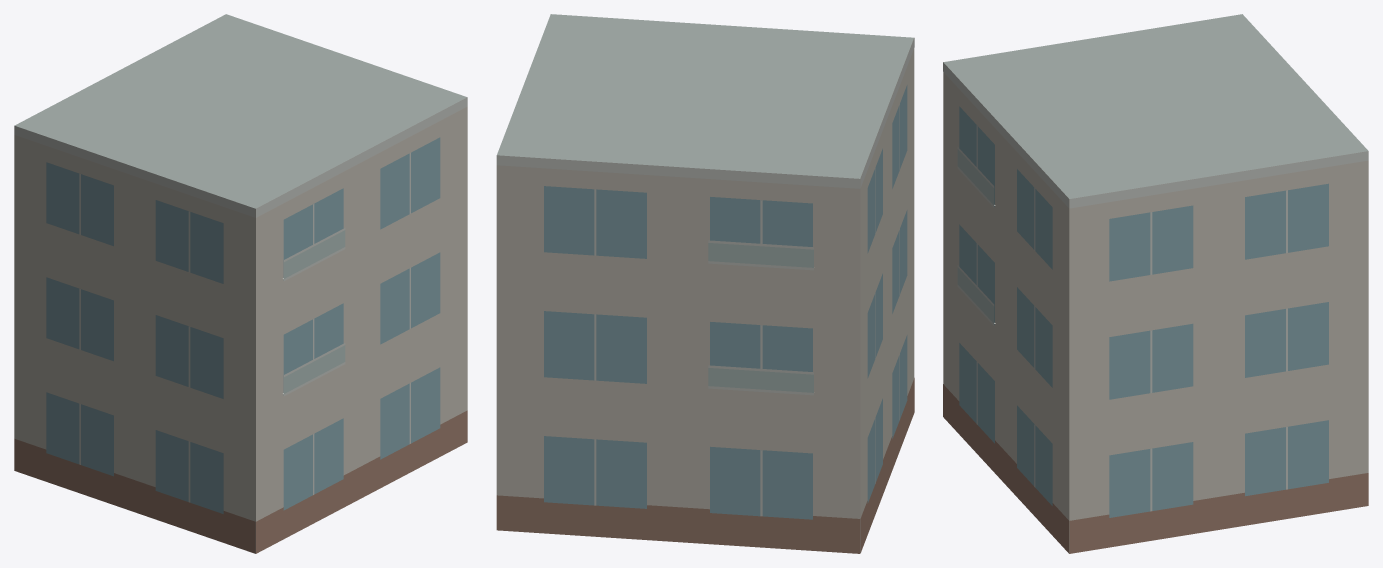
File: survey-upis-32524075.glb
The picture shows the model from 3 angles, left to right: view 1: azimuth 30°, elevation 25°; view 2: azimuth 150°, elevation 25°; view 3: azimuth 270°, elevation 25°; orthographic projection. The views are drawn at different scales.
Visible parts, largest first — view 1: survey-upis-32524075.tmp; view 2: survey-upis-32524075.tmp; view 3: survey-upis-32524075.tmp.
Part boxes in pixels (x1,y1,x2,y2): survey-upis-32524075.tmp: (14, 14, 467, 553); survey-upis-32524075.tmp: (496, 14, 914, 553); survey-upis-32524075.tmp: (943, 14, 1368, 553).
Bounding box in the file's own units: 10.25 × 9.15 × 9.96.
